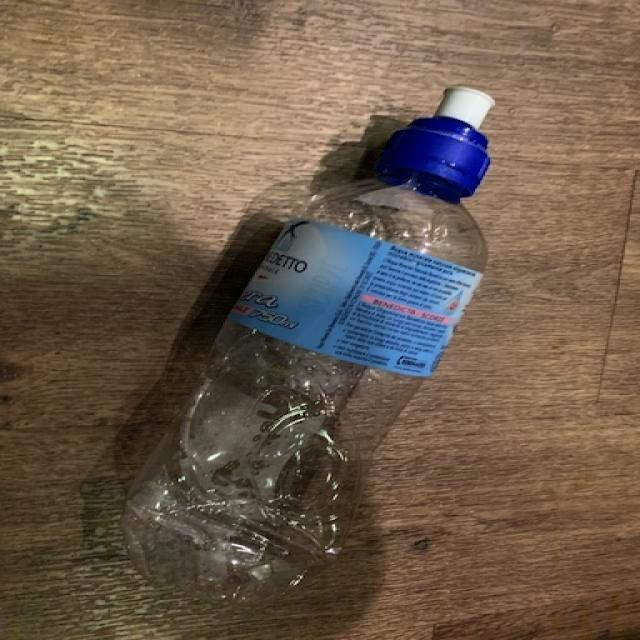bottle: (122, 87, 496, 604)
